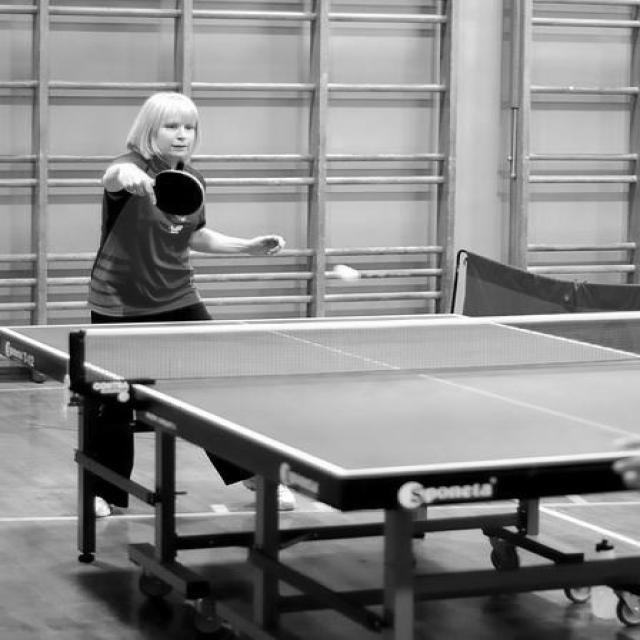ping-pong-ball: (334, 264, 361, 283)
